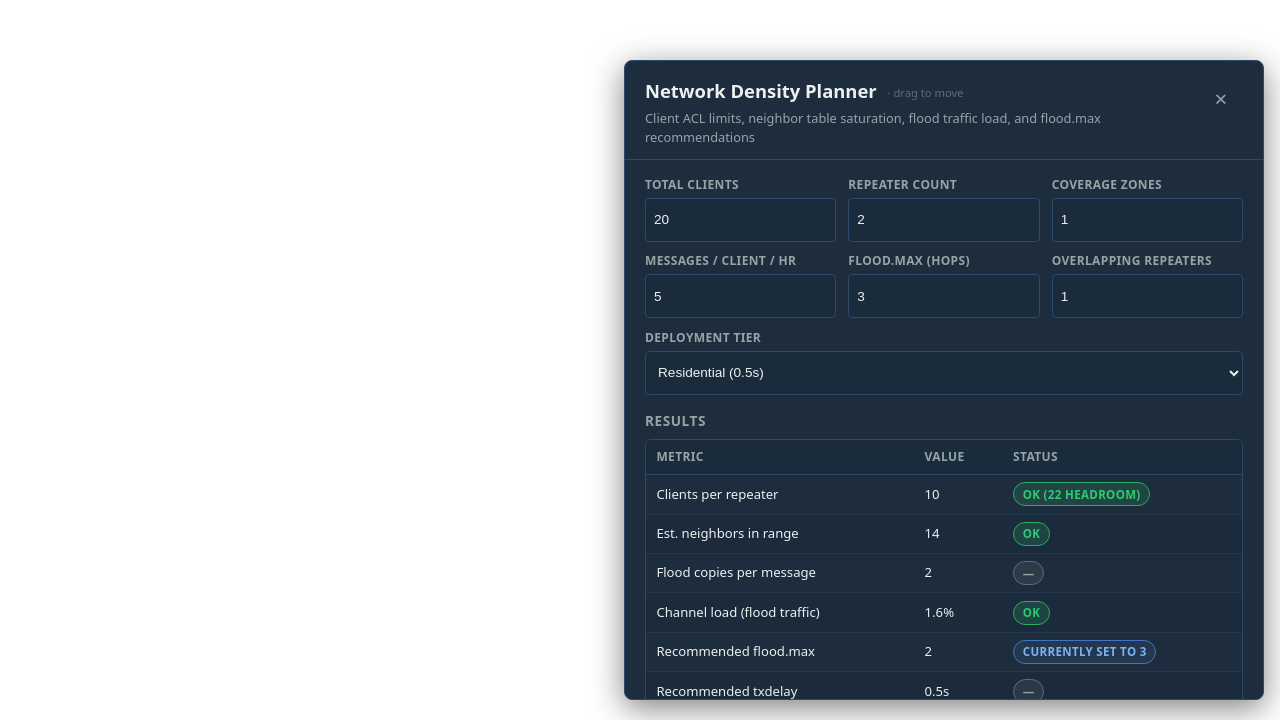
Test: MeshCoreCapacityModal — interaction › changing client count updates the results table
expect the cell "10" is shown: met, box x1=914 y1=475 x2=1003 y2=514
Replace the text in the number field labelled "Total clients" with "40" at (741, 220), box x1=645 y1=198 x2=836 y2=242
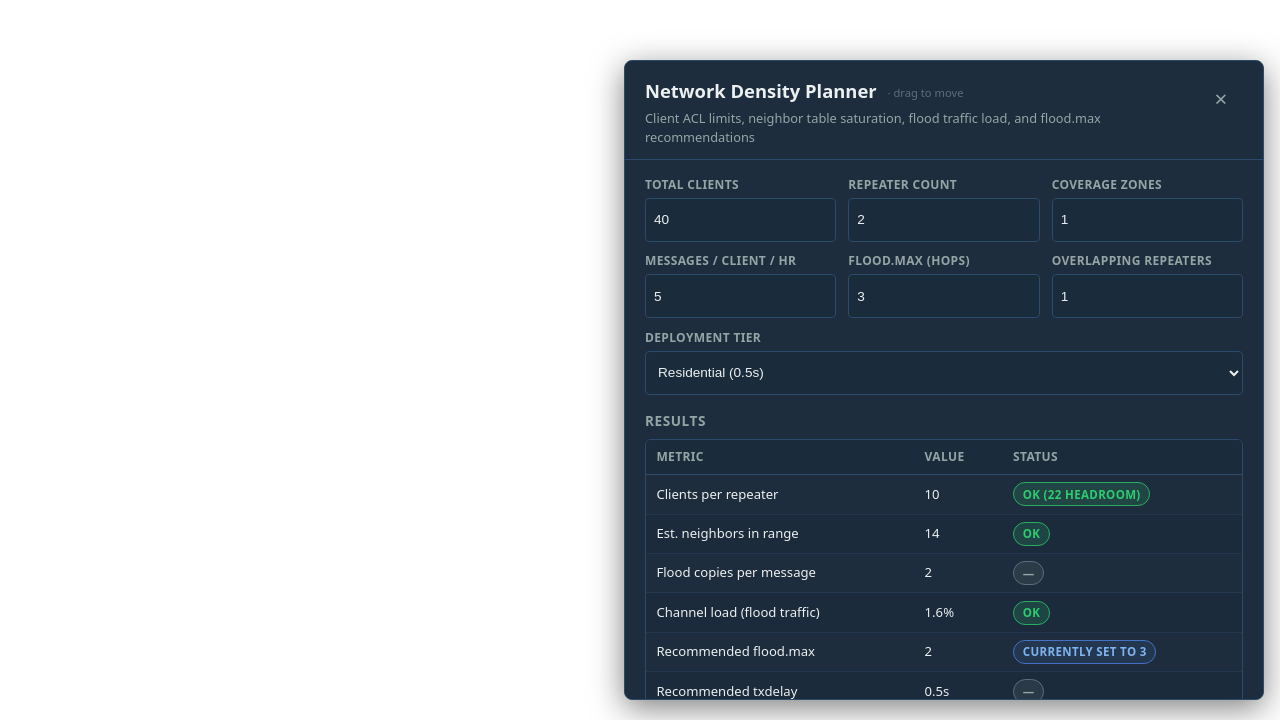
Leave the number field labelled "Total clients", box x1=645 y1=198 x2=836 y2=242
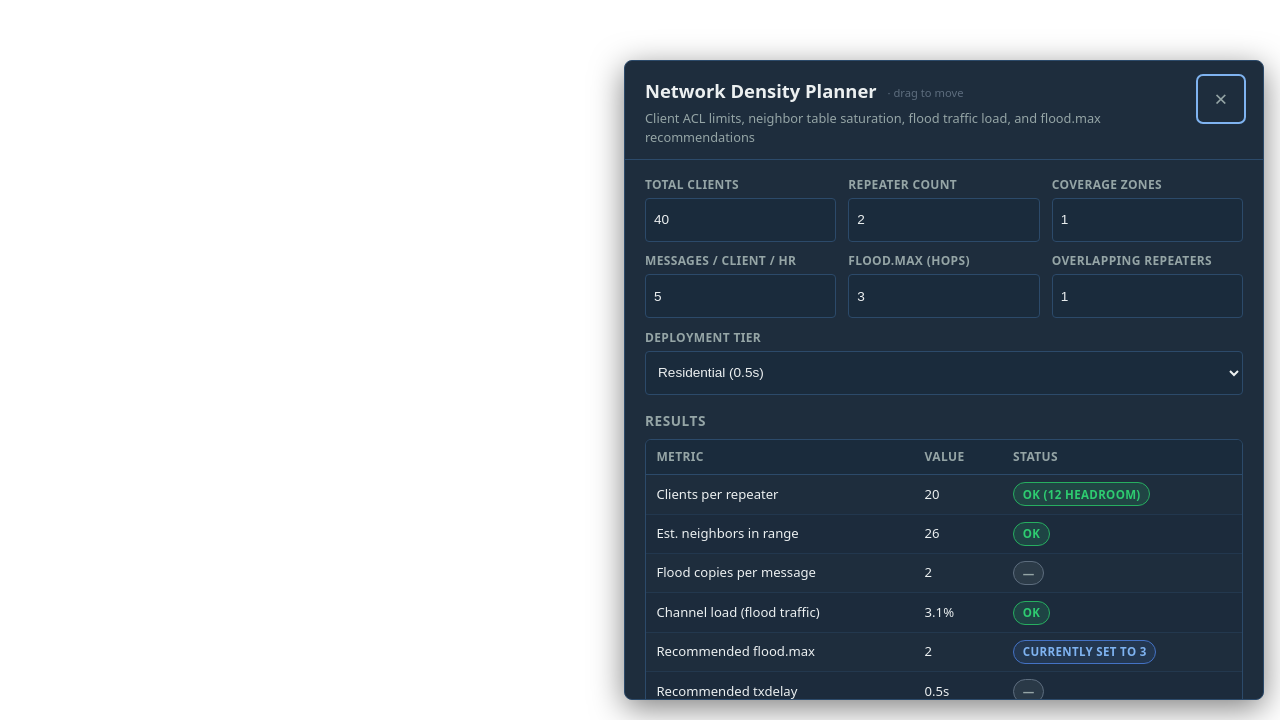
expect the cell "20" is shown: met, box x1=914 y1=475 x2=1003 y2=514
